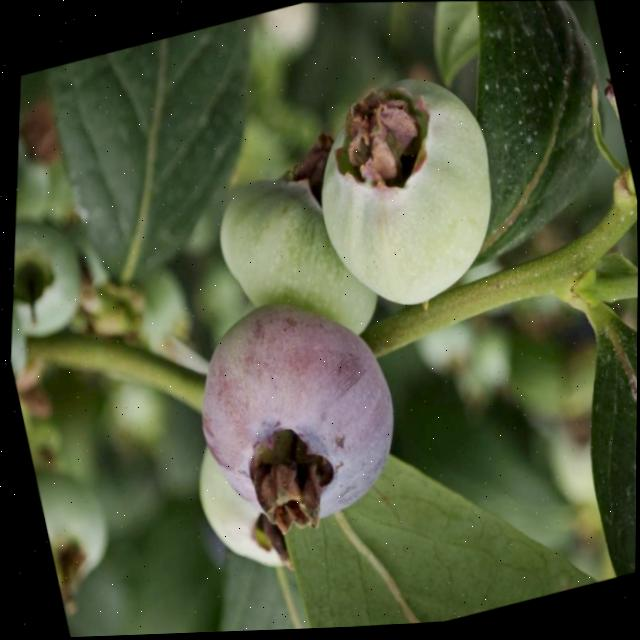Semi-RipeBlueBerry: (165, 267, 425, 559)
UnripeBlueBerry: (280, 48, 522, 335), (194, 149, 392, 374)
